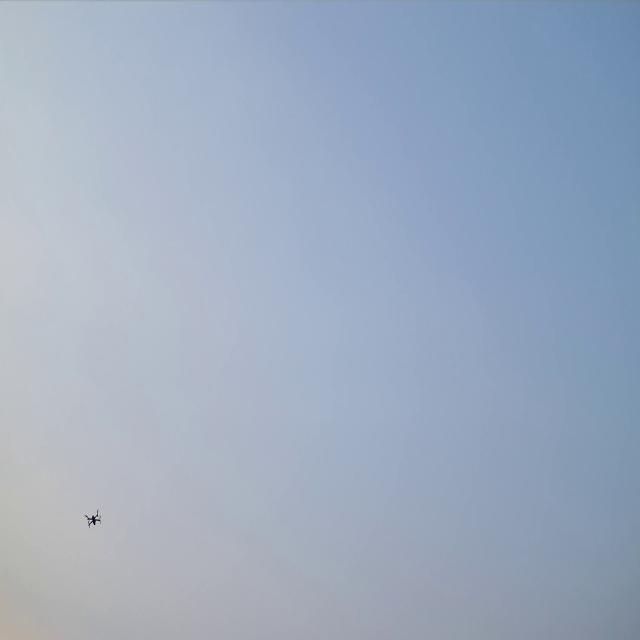UAV: (85, 508, 101, 529)
